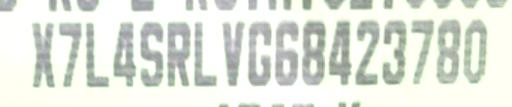letter: (26, 19, 58, 88), (136, 21, 166, 88), (299, 19, 327, 88), (461, 18, 489, 85), (380, 19, 408, 86), (407, 19, 435, 86), (245, 21, 273, 88), (191, 22, 219, 89), (165, 19, 191, 88), (274, 19, 300, 86), (328, 19, 354, 86), (353, 19, 379, 86), (56, 21, 82, 88), (84, 21, 110, 88), (112, 21, 138, 88), (436, 19, 460, 86), (220, 21, 244, 88)
